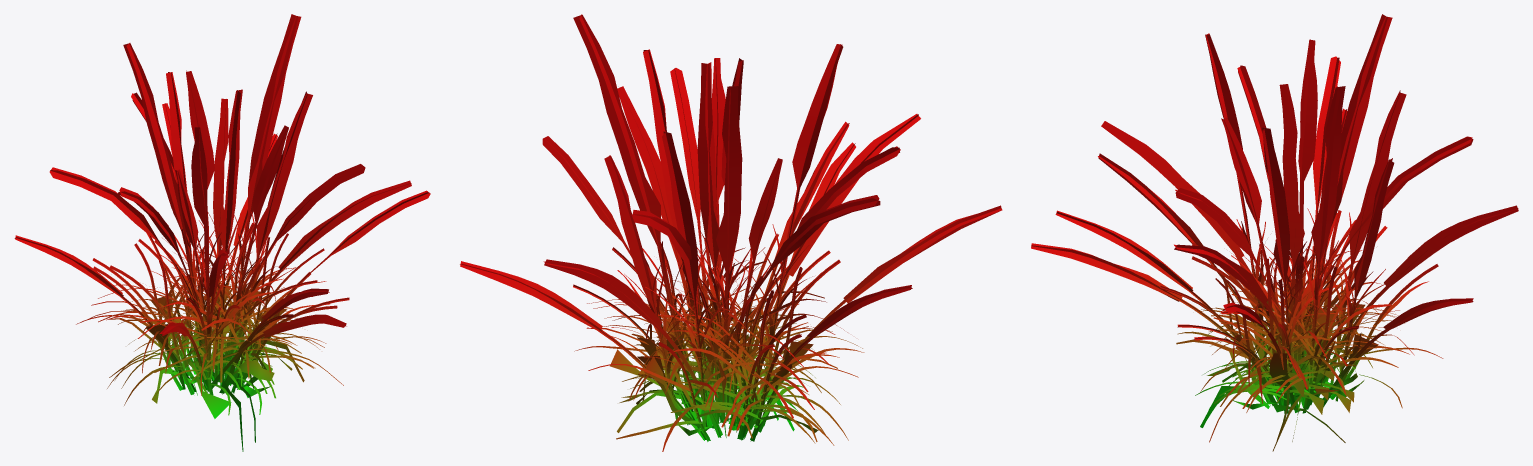
The model's file is Var3_LOD1.fbx.
3 renders of one model, left to right at view 1: azimuth 30°, elevation 25°; view 2: azimuth 150°, elevation 25°; view 3: azimuth 270°, elevation 25°, orthographic. The views are drawn at different scales.
Visible parts, largest first — view 1: _b42f_Var3_LOD1; view 2: _b42f_Var3_LOD1; view 3: _b42f_Var3_LOD1.
Boxes of the visible parts, x1=… form: _b42f_Var3_LOD1: x1=14, y1=14, x2=430, y2=451; _b42f_Var3_LOD1: x1=460, y1=14, x2=1002, y2=451; _b42f_Var3_LOD1: x1=1031, y1=14, x2=1518, y2=451.
Size of the model in its own units: 54.25 by 52.12 by 57.02.
